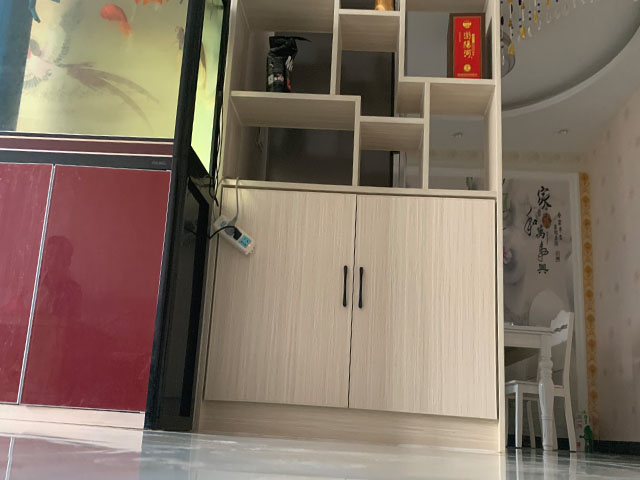cabinet: (193, 182, 505, 450), (1, 133, 213, 435)
stool: (505, 309, 580, 453)
table: (503, 320, 557, 453)
wire: (201, 173, 262, 259)
